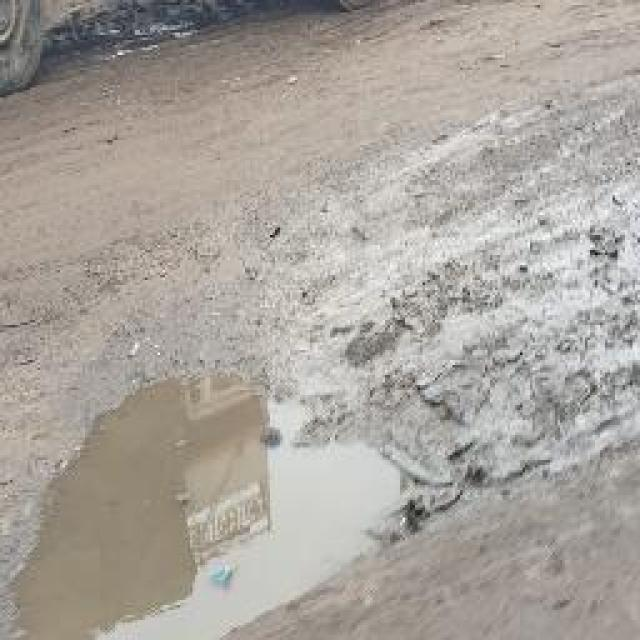stagnation: (5, 341, 445, 640)
